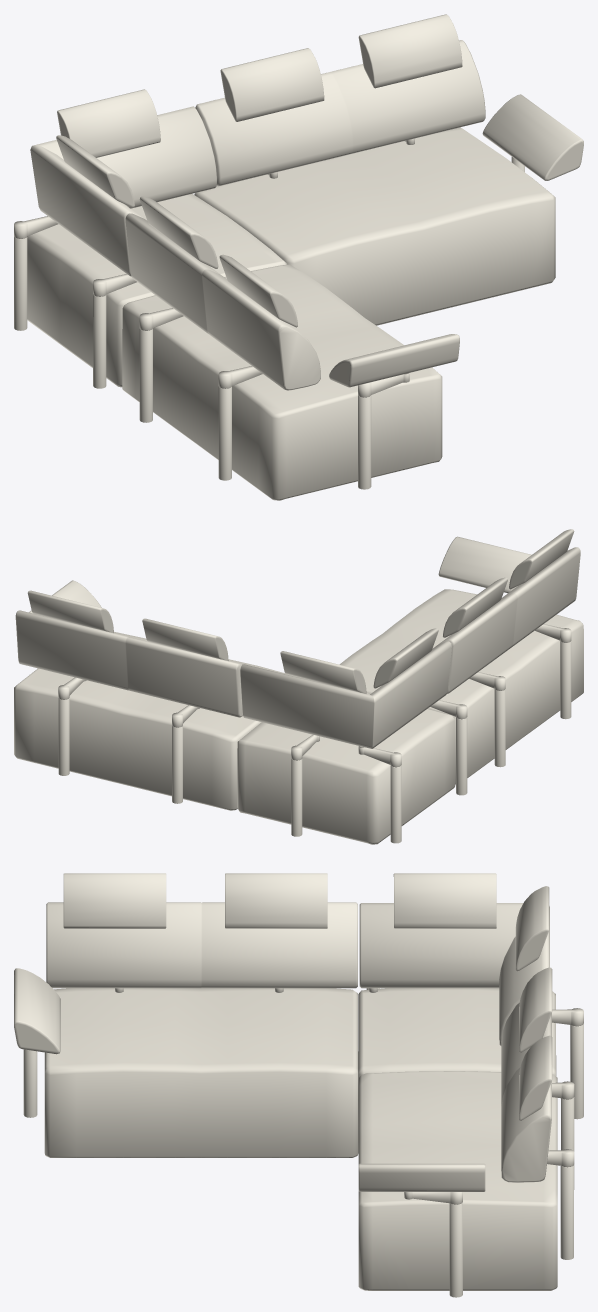
The model's file is aws_SofaC_01_visual.DAE.
3 views of the same model, one above another, from view 1: azimuth 30°, elevation 25°; view 2: azimuth 150°, elevation 25°; view 3: azimuth 270°, elevation 25° (orthographic). The views are drawn at different scales.
Parts seen in each view (by area): view 1: aws_SofaC_01_visual; view 2: aws_SofaC_01_visual; view 3: aws_SofaC_01_visual.
Part boxes in pixels (box(x1,y1,x2,y2)): aws_SofaC_01_visual: box(14, 14, 583, 500); aws_SofaC_01_visual: box(14, 529, 583, 844); aws_SofaC_01_visual: box(14, 873, 583, 1297).
Bounding box in the file's own units: 242 × 244 × 97.1.
1 material, 1 textured.
